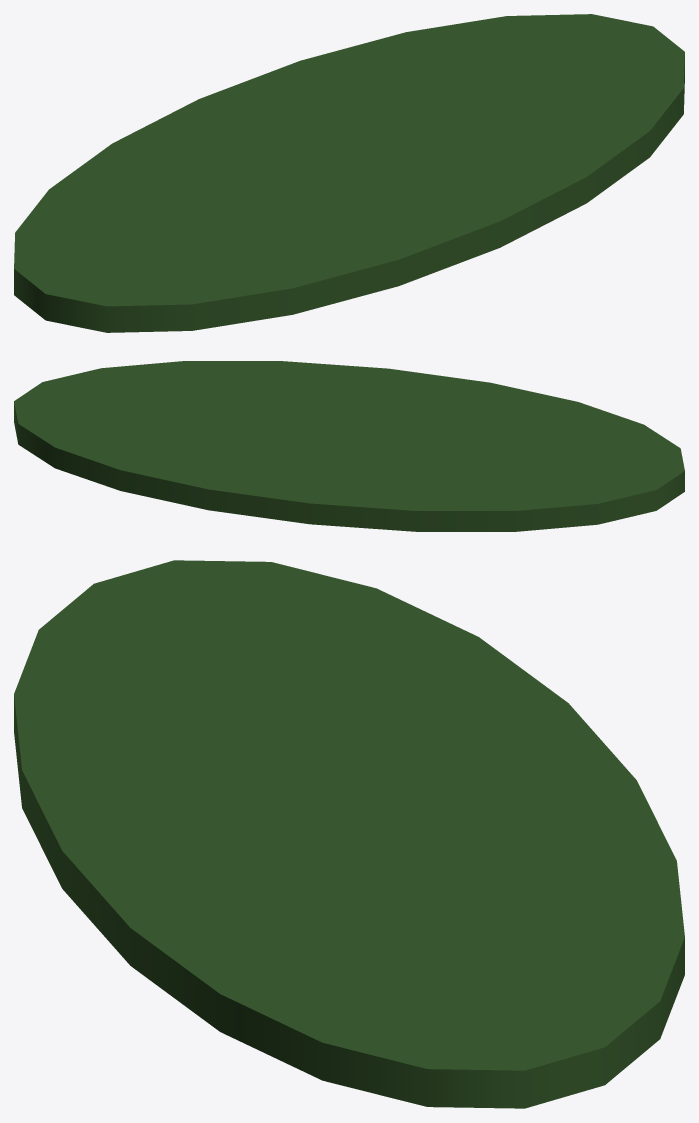
Rendered from Spinach.fbx.
3 views of the same model, one above another, from view 1: azimuth 30°, elevation 25°; view 2: azimuth 150°, elevation 25°; view 3: azimuth 270°, elevation 25° (orthographic). The views are drawn at different scales.
Visible parts, largest first — view 1: spinach; view 2: spinach; view 3: spinach.
Boxes of the visible parts, x1,y1,x2,y2 form: spinach: [14, 14, 684, 332]; spinach: [14, 361, 684, 531]; spinach: [14, 560, 684, 1108].
Bounding box in the file's own units: 4.46 × 0.1546 × 2.48.
